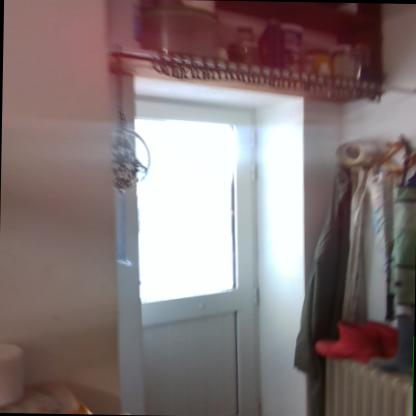closed: (97, 86, 306, 416)
